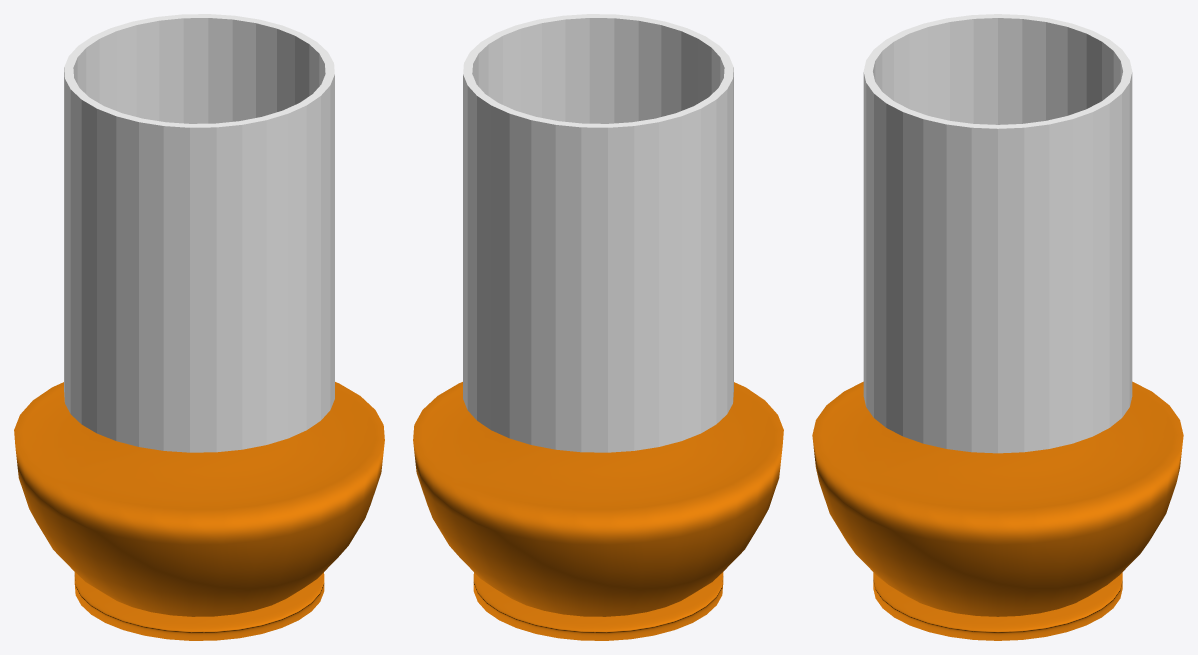
Rendered from calorimeter.fbx.
3 views of the same model, side by side, from view 1: azimuth 30°, elevation 25°; view 2: azimuth 150°, elevation 25°; view 3: azimuth 270°, elevation 25° (orthographic).
Parts seen in each view (by area): view 1: Мерный стакан без мер.001, Калориметр.001; view 2: Мерный стакан без мер.001, Калориметр.001; view 3: Мерный стакан без мер.001, Калориметр.001.
Part boxes in pixels (<box>): Мерный стакан без мер.001: <box>64,14,334,452</box>; Калориметр.001: <box>14,382,384,640</box>; Мерный стакан без мер.001: <box>463,14,733,452</box>; Калориметр.001: <box>413,382,783,640</box>; Мерный стакан без мер.001: <box>863,14,1132,453</box>; Калориметр.001: <box>812,381,1183,640</box>.
Size of the model in its own units: 2 by 3.07 by 2.
Materials: 2 (1 with a texture image).
